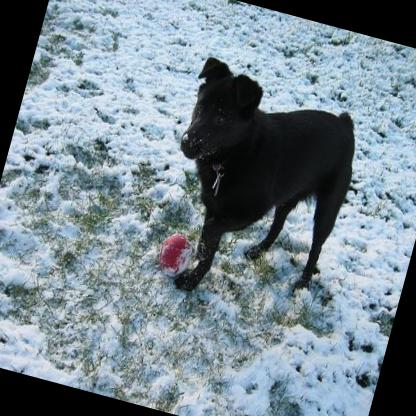schipperke: (142, 51, 372, 326)
